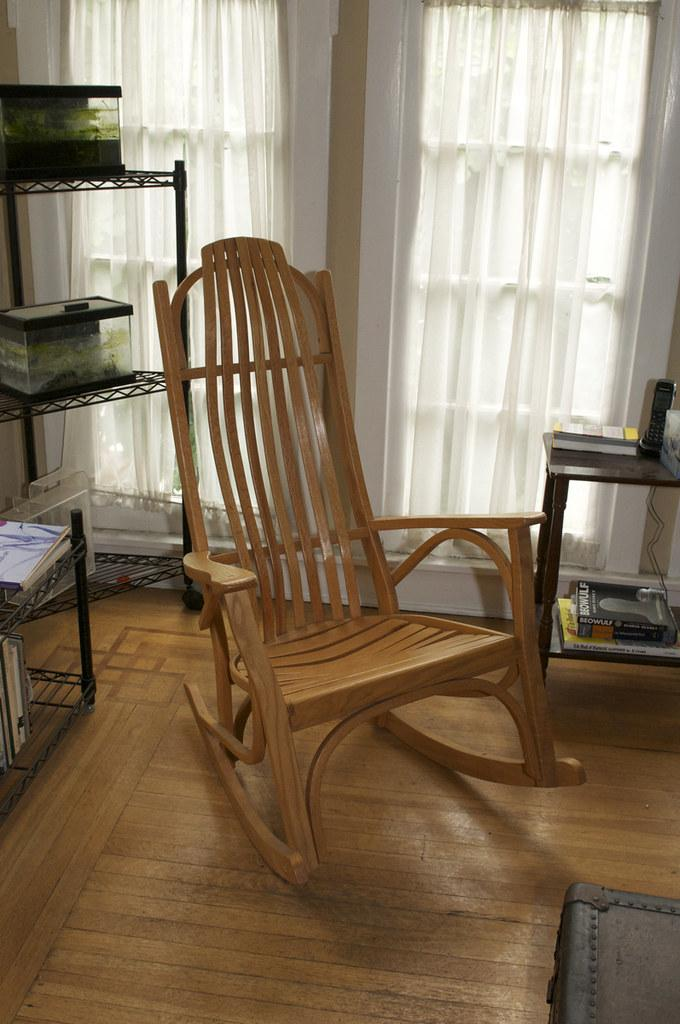chair: (152, 236, 588, 886)
